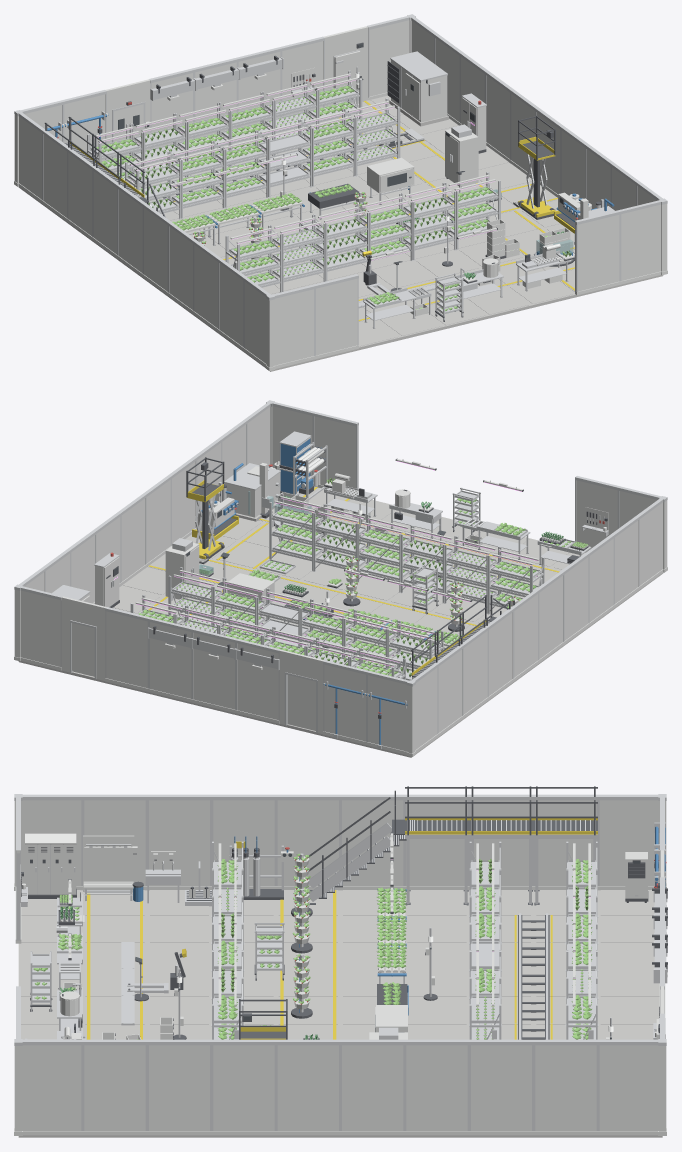
Rendered from vertical-farm-automated-storage-packhouse.glb.
3 renders of one model, top to bottom at view 1: azimuth 30°, elevation 25°; view 2: azimuth 150°, elevation 25°; view 3: azimuth 270°, elevation 25°, orthographic. The views are drawn at different scales.
Visible parts, largest first — view 1: 121-vertical-farm-and-hydroponics-tower-grow-room-wall-panel (×2), 120-vertical-farm-and-hydroponics-tower-grow-room-wall-panel, 122-vertical-farm-and-hydroponics-tower-grow-room-wall-panel, 119-vertical-farm-and-hydroponics-tower-grow-room-wall-panel, 096-vertical-farm-and-hydroponics-tower-grow-room-wall-panel, 103-vertical-farm-and-hydroponics-tower-grow-room-wall-panel, 115-vertical-farm-and-hydroponics-tower-grow-room-wall-panel, 105-vertical-farm-and-hydroponics-tower-grow-room-wall-panel, 113-vertical-farm-and-hydroponics-tower-grow-room-wall-panel, 101-vertical-farm-and-hydroponics-tower-grow-room-wall-panel, 107-vertical-farm-and-hydroponics-tower-grow-room-wall-panel, 111-vertical-farm-and-hydroponics-tower-grow-room-wall-panel (+74 smaller); view 2: 098-vertical-farm-and-hydroponics-tower-cold-store-door/0, 095-vertical-farm-and-hydroponics-tower-grow-room-wall-panel, 096-vertical-farm-and-hydroponics-tower-grow-room-wall-panel, 091-vertical-farm-and-hydroponics-tower-grow-room-wall-panel, 090-vertical-farm-and-hydroponics-tower-grow-room-wall-panel, 092-vertical-farm-and-hydroponics-tower-grow-room-wall-panel, 094-vertical-farm-and-hydroponics-tower-grow-room-wall-panel, 093-vertical-farm-and-hydroponics-tower-grow-room-wall-panel, 121-vertical-farm-and-hydroponics-tower-grow-room-wall-panel, 120-vertical-farm-and-hydroponics-tower-grow-room-wall-panel, 101-vertical-farm-and-hydroponics-tower-grow-room-wall-panel, 113-vertical-farm-and-hydroponics-tower-grow-room-wall-panel (+63 smaller); view 3: 102-vertical-farm-and-hydroponics-tower-grow-room-wall-panel (×2), 106-vertical-farm-and-hydroponics-tower-grow-room-wall-panel (×2), 112-vertical-farm-and-hydroponics-tower-grow-room-wall-panel (×2), 116-vertical-farm-and-hydroponics-tower-grow-room-wall-panel (×2), 108-vertical-farm-and-hydroponics-tower-grow-room-wall-panel (×2), 110-vertical-farm-and-hydroponics-tower-grow-room-wall-panel (×2), 104-vertical-farm-and-hydroponics-tower-grow-room-wall-panel (×2), 114-vertical-farm-and-hydroponics-tower-grow-room-wall-panel (×2), 118-vertical-farm-and-hydroponics-tower-grow-room-wall-panel (×2), 100-vertical-farm-and-hydroponics-tower-grow-room-wall-panel (×2), 113-vertical-farm-and-hydroponics-tower-grow-room-wall-panel (×2), 109-vertical-farm-and-hydroponics-tower-grow-room-wall-panel (×2) (+108 smaller).
Part boxes in pixels (x1,y1,x2,y2): 121-vertical-farm-and-hydroponics-tower-grow-room-wall-panel (×2): [575, 210, 620, 295]; 120-vertical-farm-and-hydroponics-tower-grow-room-wall-panel: [315, 278, 358, 359]; 122-vertical-farm-and-hydroponics-tower-grow-room-wall-panel: [620, 204, 661, 284]; 119-vertical-farm-and-hydroponics-tower-grow-room-wall-panel: [274, 289, 315, 368]; 096-vertical-farm-and-hydroponics-tower-grow-room-wall-panel: [368, 20, 409, 100]; 103-vertical-farm-and-hydroponics-tower-grow-room-wall-panel: [67, 152, 92, 240]; 115-vertical-farm-and-hydroponics-tower-grow-room-wall-panel: [218, 263, 243, 350]; 105-vertical-farm-and-hydroponics-tower-grow-room-wall-panel: [92, 171, 117, 258]; 113-vertical-farm-and-hydroponics-tower-grow-room-wall-panel: [193, 245, 218, 332]; 101-vertical-farm-and-hydroponics-tower-grow-room-wall-panel: [42, 134, 67, 221]; 107-vertical-farm-and-hydroponics-tower-grow-room-wall-panel: [117, 190, 142, 277]; 111-vertical-farm-and-hydroponics-tower-grow-room-wall-panel: [168, 226, 193, 313]; 098-vertical-farm-and-hydroponics-tower-cold-store-door/0: [61, 596, 106, 680]; 095-vertical-farm-and-hydroponics-tower-grow-room-wall-panel: [105, 611, 148, 691]; 096-vertical-farm-and-hydroponics-tower-grow-room-wall-panel: [20, 590, 61, 670]; 091-vertical-farm-and-hydroponics-tower-grow-room-wall-panel: [323, 664, 366, 745]; 090-vertical-farm-and-hydroponics-tower-grow-room-wall-panel: [366, 675, 407, 754]; 092-vertical-farm-and-hydroponics-tower-grow-room-wall-panel: [235, 643, 279, 723]; 094-vertical-farm-and-hydroponics-tower-grow-room-wall-panel: [148, 622, 192, 702]; 093-vertical-farm-and-hydroponics-tower-grow-room-wall-panel: [192, 633, 235, 713]; 121-vertical-farm-and-hydroponics-tower-grow-room-wall-panel: [314, 416, 355, 488]; 120-vertical-farm-and-hydroponics-tower-grow-room-wall-panel: [576, 480, 617, 552]; 101-vertical-farm-and-hydroponics-tower-grow-room-wall-panel: [438, 649, 463, 736]; 113-vertical-farm-and-hydroponics-tower-grow-room-wall-panel: [589, 538, 614, 626]; 102-vertical-farm-and-hydroponics-tower-grow-room-wall-panel (×2): [533, 1039, 597, 1135]; 106-vertical-farm-and-hydroponics-tower-grow-room-wall-panel (×2): [405, 1039, 469, 1135]; 112-vertical-farm-and-hydroponics-tower-grow-room-wall-panel (×2): [211, 1039, 275, 1135]; 116-vertical-farm-and-hydroponics-tower-grow-room-wall-panel (×2): [83, 1039, 147, 1135]; 108-vertical-farm-and-hydroponics-tower-grow-room-wall-panel (×2): [340, 1039, 404, 1135]; 110-vertical-farm-and-hydroponics-tower-grow-room-wall-panel (×2): [276, 1039, 340, 1135]; 104-vertical-farm-and-hydroponics-tower-grow-room-wall-panel (×2): [469, 1039, 533, 1135]; 114-vertical-farm-and-hydroponics-tower-grow-room-wall-panel (×2): [147, 1039, 211, 1135]; 118-vertical-farm-and-hydroponics-tower-grow-room-wall-panel (×2): [18, 1039, 82, 1135]; 100-vertical-farm-and-hydroponics-tower-grow-room-wall-panel (×2): [598, 1039, 662, 1135]; 113-vertical-farm-and-hydroponics-tower-grow-room-wall-panel (×2): [147, 794, 211, 890]; 109-vertical-farm-and-hydroponics-tower-grow-room-wall-panel (×2): [276, 794, 340, 890].
Bounding box in the file's own units: 18.28 × 3.89 × 20.31.
